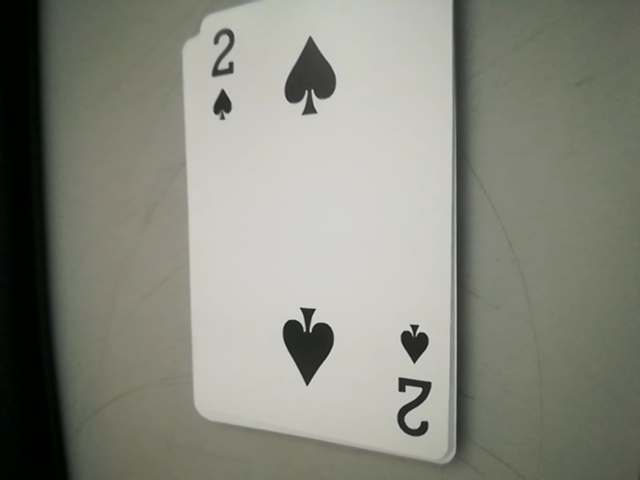ht 2: (195, 22, 255, 129), (388, 321, 431, 439)
